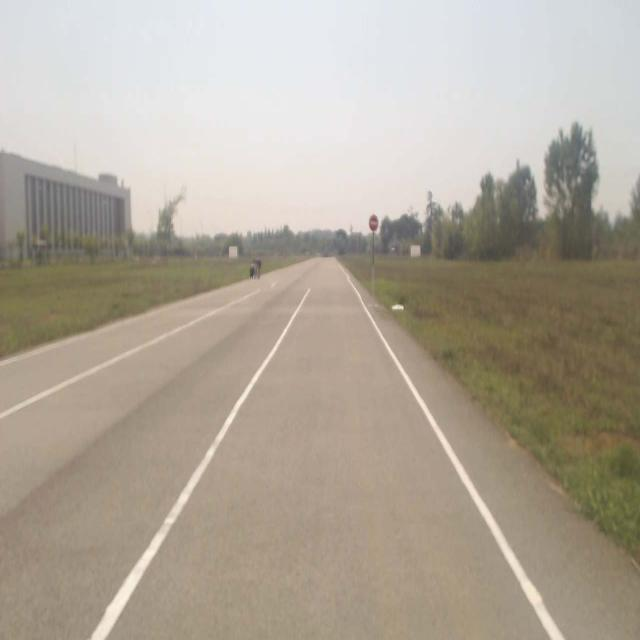girisyok: (369, 216, 379, 232)
